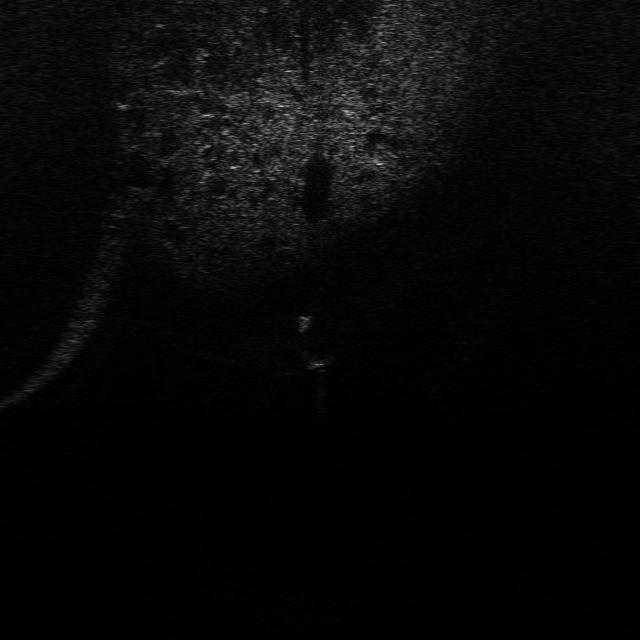cube: (294, 347, 336, 372)
cylinder: (290, 308, 316, 336)
